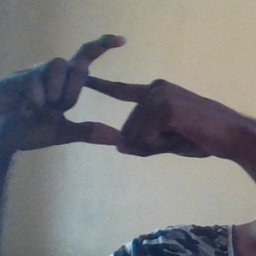E: (56, 28, 152, 152)
